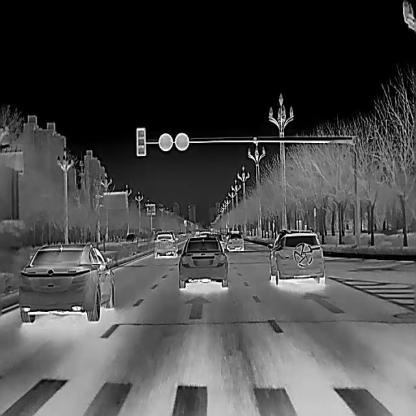car: (18, 242, 115, 322), (268, 230, 324, 284), (175, 236, 229, 288), (154, 230, 178, 257), (224, 229, 244, 250), (206, 232, 224, 250), (125, 233, 136, 241)
